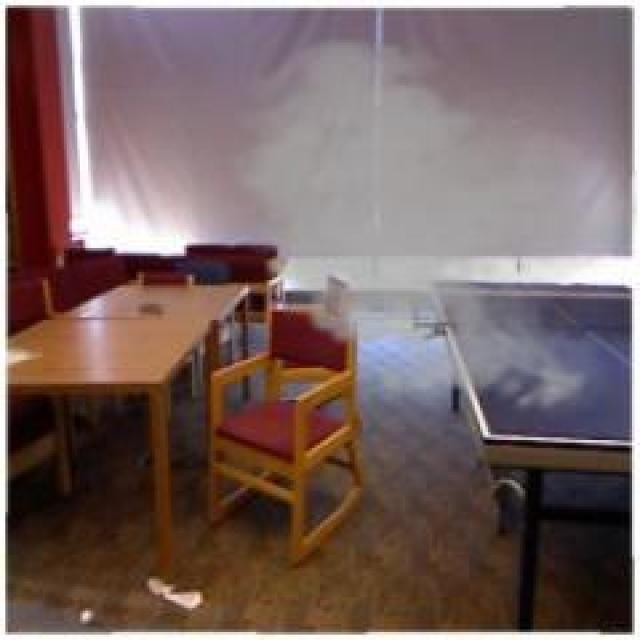Smoke: (235, 32, 638, 425)
